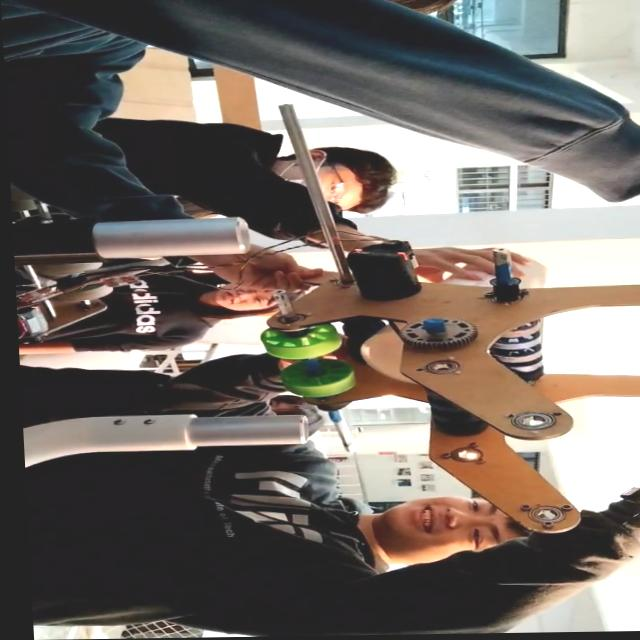CORAL: (357, 254, 558, 387)
